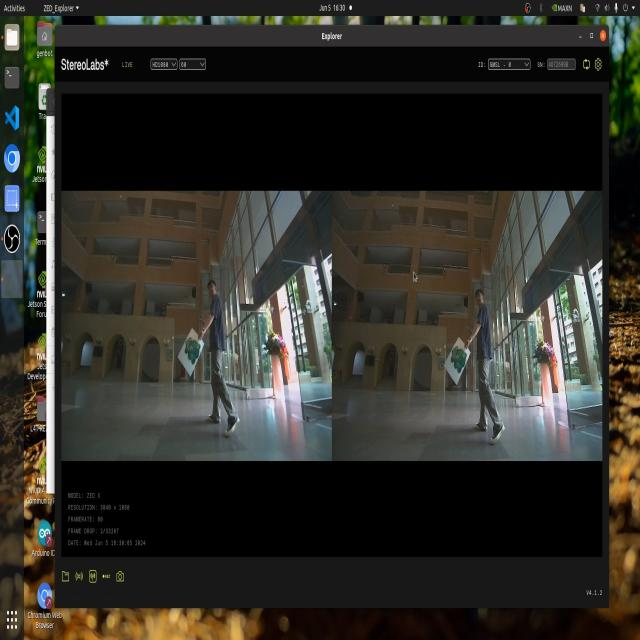green: (182, 336, 206, 374), (448, 348, 471, 377)
